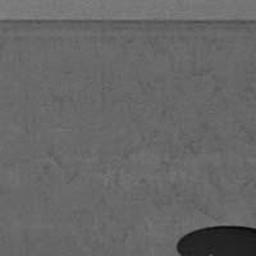Punching: (178, 224, 256, 256)
